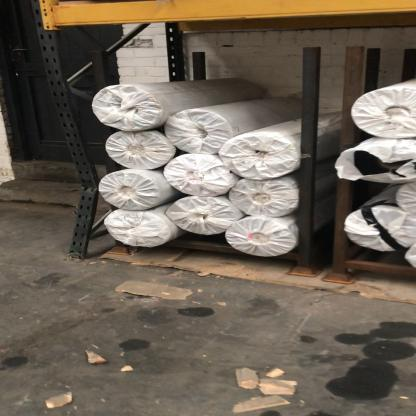vertical_damage: (57, 126, 115, 224)
